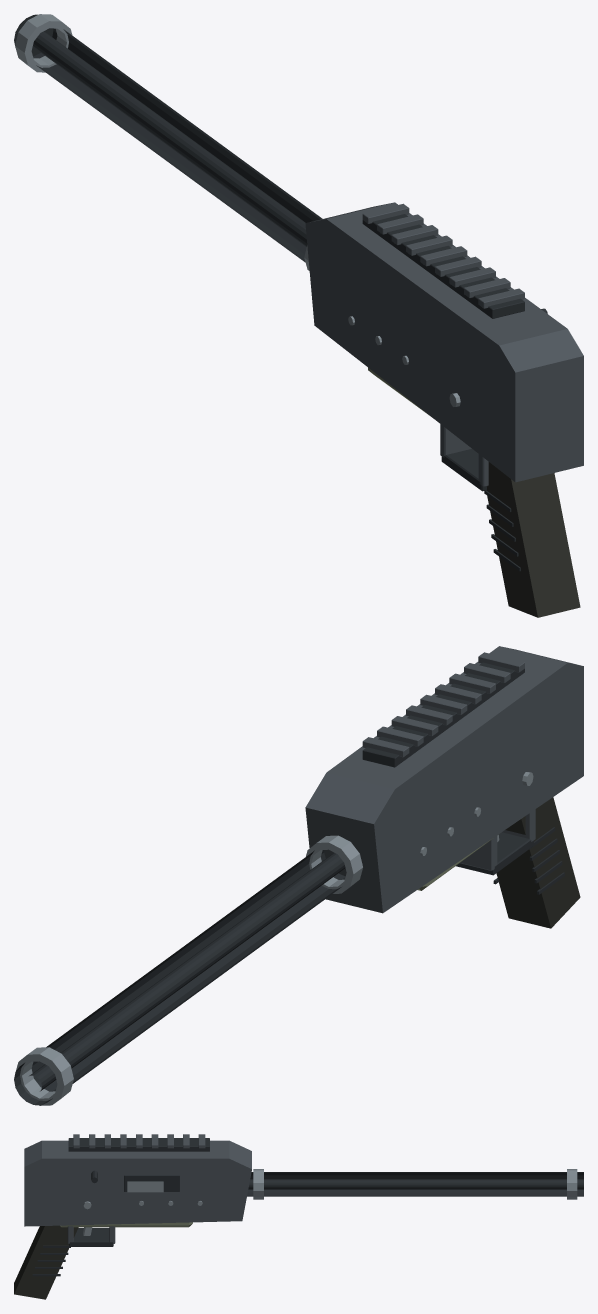
File: weapon_boar12.glb
3 renders of one model, top to bottom at view 1: azimuth 30°, elevation 25°; view 2: azimuth 150°, elevation 25°; view 3: azimuth 270°, elevation 25°, orthographic. The views are drawn at different scales.
Parts seen in each view (by area): view 1: Geometry_weapon_boar12; view 2: Geometry_weapon_boar12; view 3: Geometry_weapon_boar12.
Part boxes in pixels (x1,y1,x2,y2): Geometry_weapon_boar12: [14, 14, 583, 617]; Geometry_weapon_boar12: [14, 646, 583, 1105]; Geometry_weapon_boar12: [14, 1134, 583, 1299].
Bounding box in the file's own units: 0.095 × 0.262 × 0.876.
